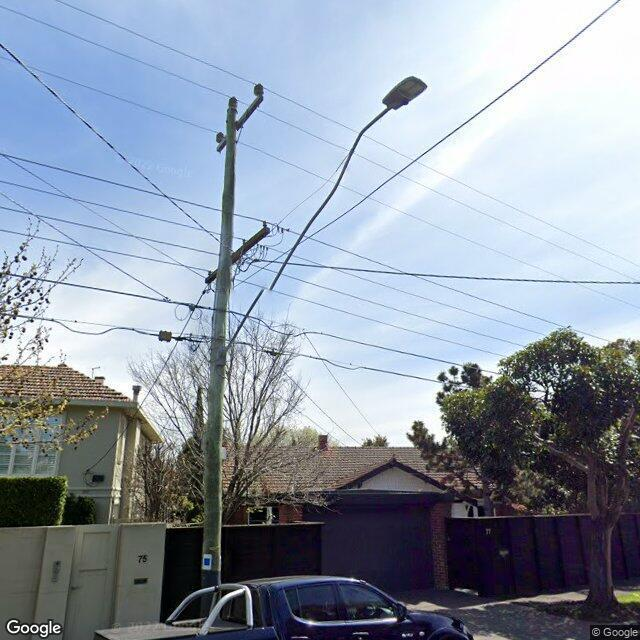HV-transmission: (216, 84, 264, 143)
crossarm: (206, 228, 270, 284), (217, 96, 264, 152)
streetlight: (219, 75, 428, 366)
timber-pole: (200, 108, 237, 618)
